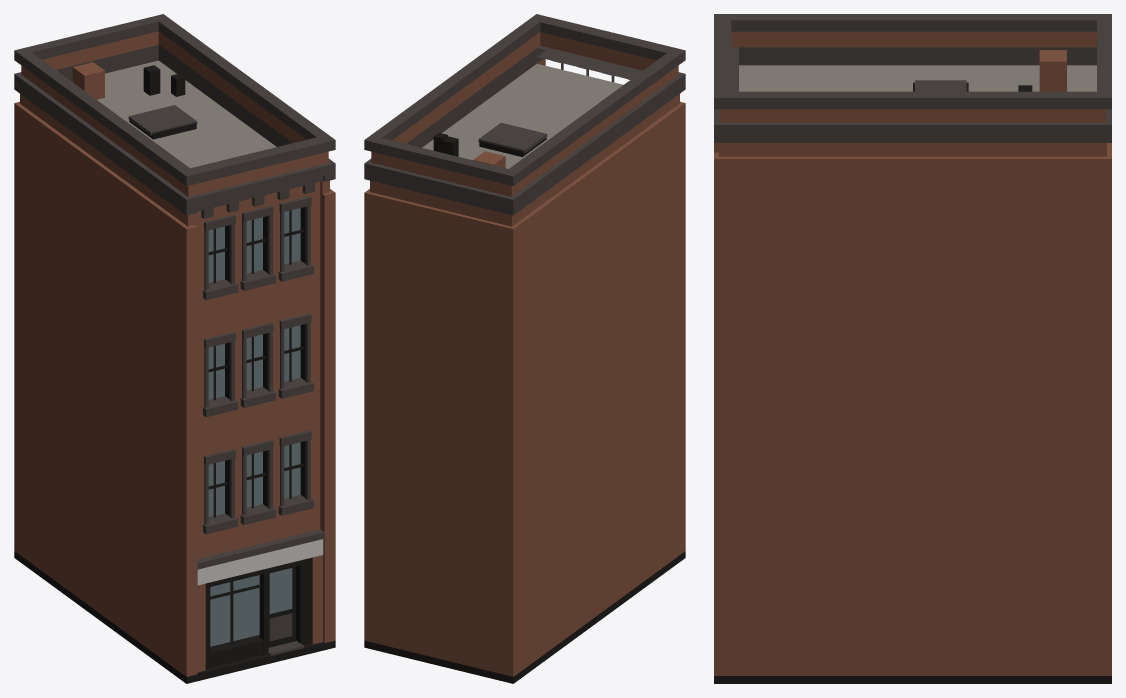
File: narrow-walk-up-71d077.glb
3 renders of one model, left to right at view 1: azimuth 30°, elevation 25°; view 2: azimuth 150°, elevation 25°; view 3: azimuth 270°, elevation 25°, orthographic. The views are drawn at different scales.
Parts seen in each view (by area): view 1: walk-up-shell, door-leaf, bulkhead-leaf; view 2: walk-up-shell, bulkhead-leaf; view 3: walk-up-shell, bulkhead-leaf.
Boxes of the visible parts, box(x1,y1,x2,y2) form: walk-up-shell: box(14, 14, 335, 683); door-leaf: box(268, 566, 295, 647); bulkhead-leaf: box(128, 105, 197, 135); walk-up-shell: box(364, 14, 685, 683); bulkhead-leaf: box(478, 122, 547, 153); walk-up-shell: box(714, 14, 1111, 683); bulkhead-leaf: box(915, 80, 966, 91).
Size of the model in its own units: 4 by 13 by 8.
